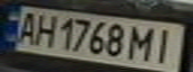1: (54, 15, 75, 51)
6: (87, 19, 109, 56)
7: (69, 16, 90, 53)
8: (103, 20, 130, 60)
A: (12, 9, 42, 45)
H: (30, 11, 60, 47)
I: (148, 25, 181, 63)
M: (124, 24, 160, 62)
